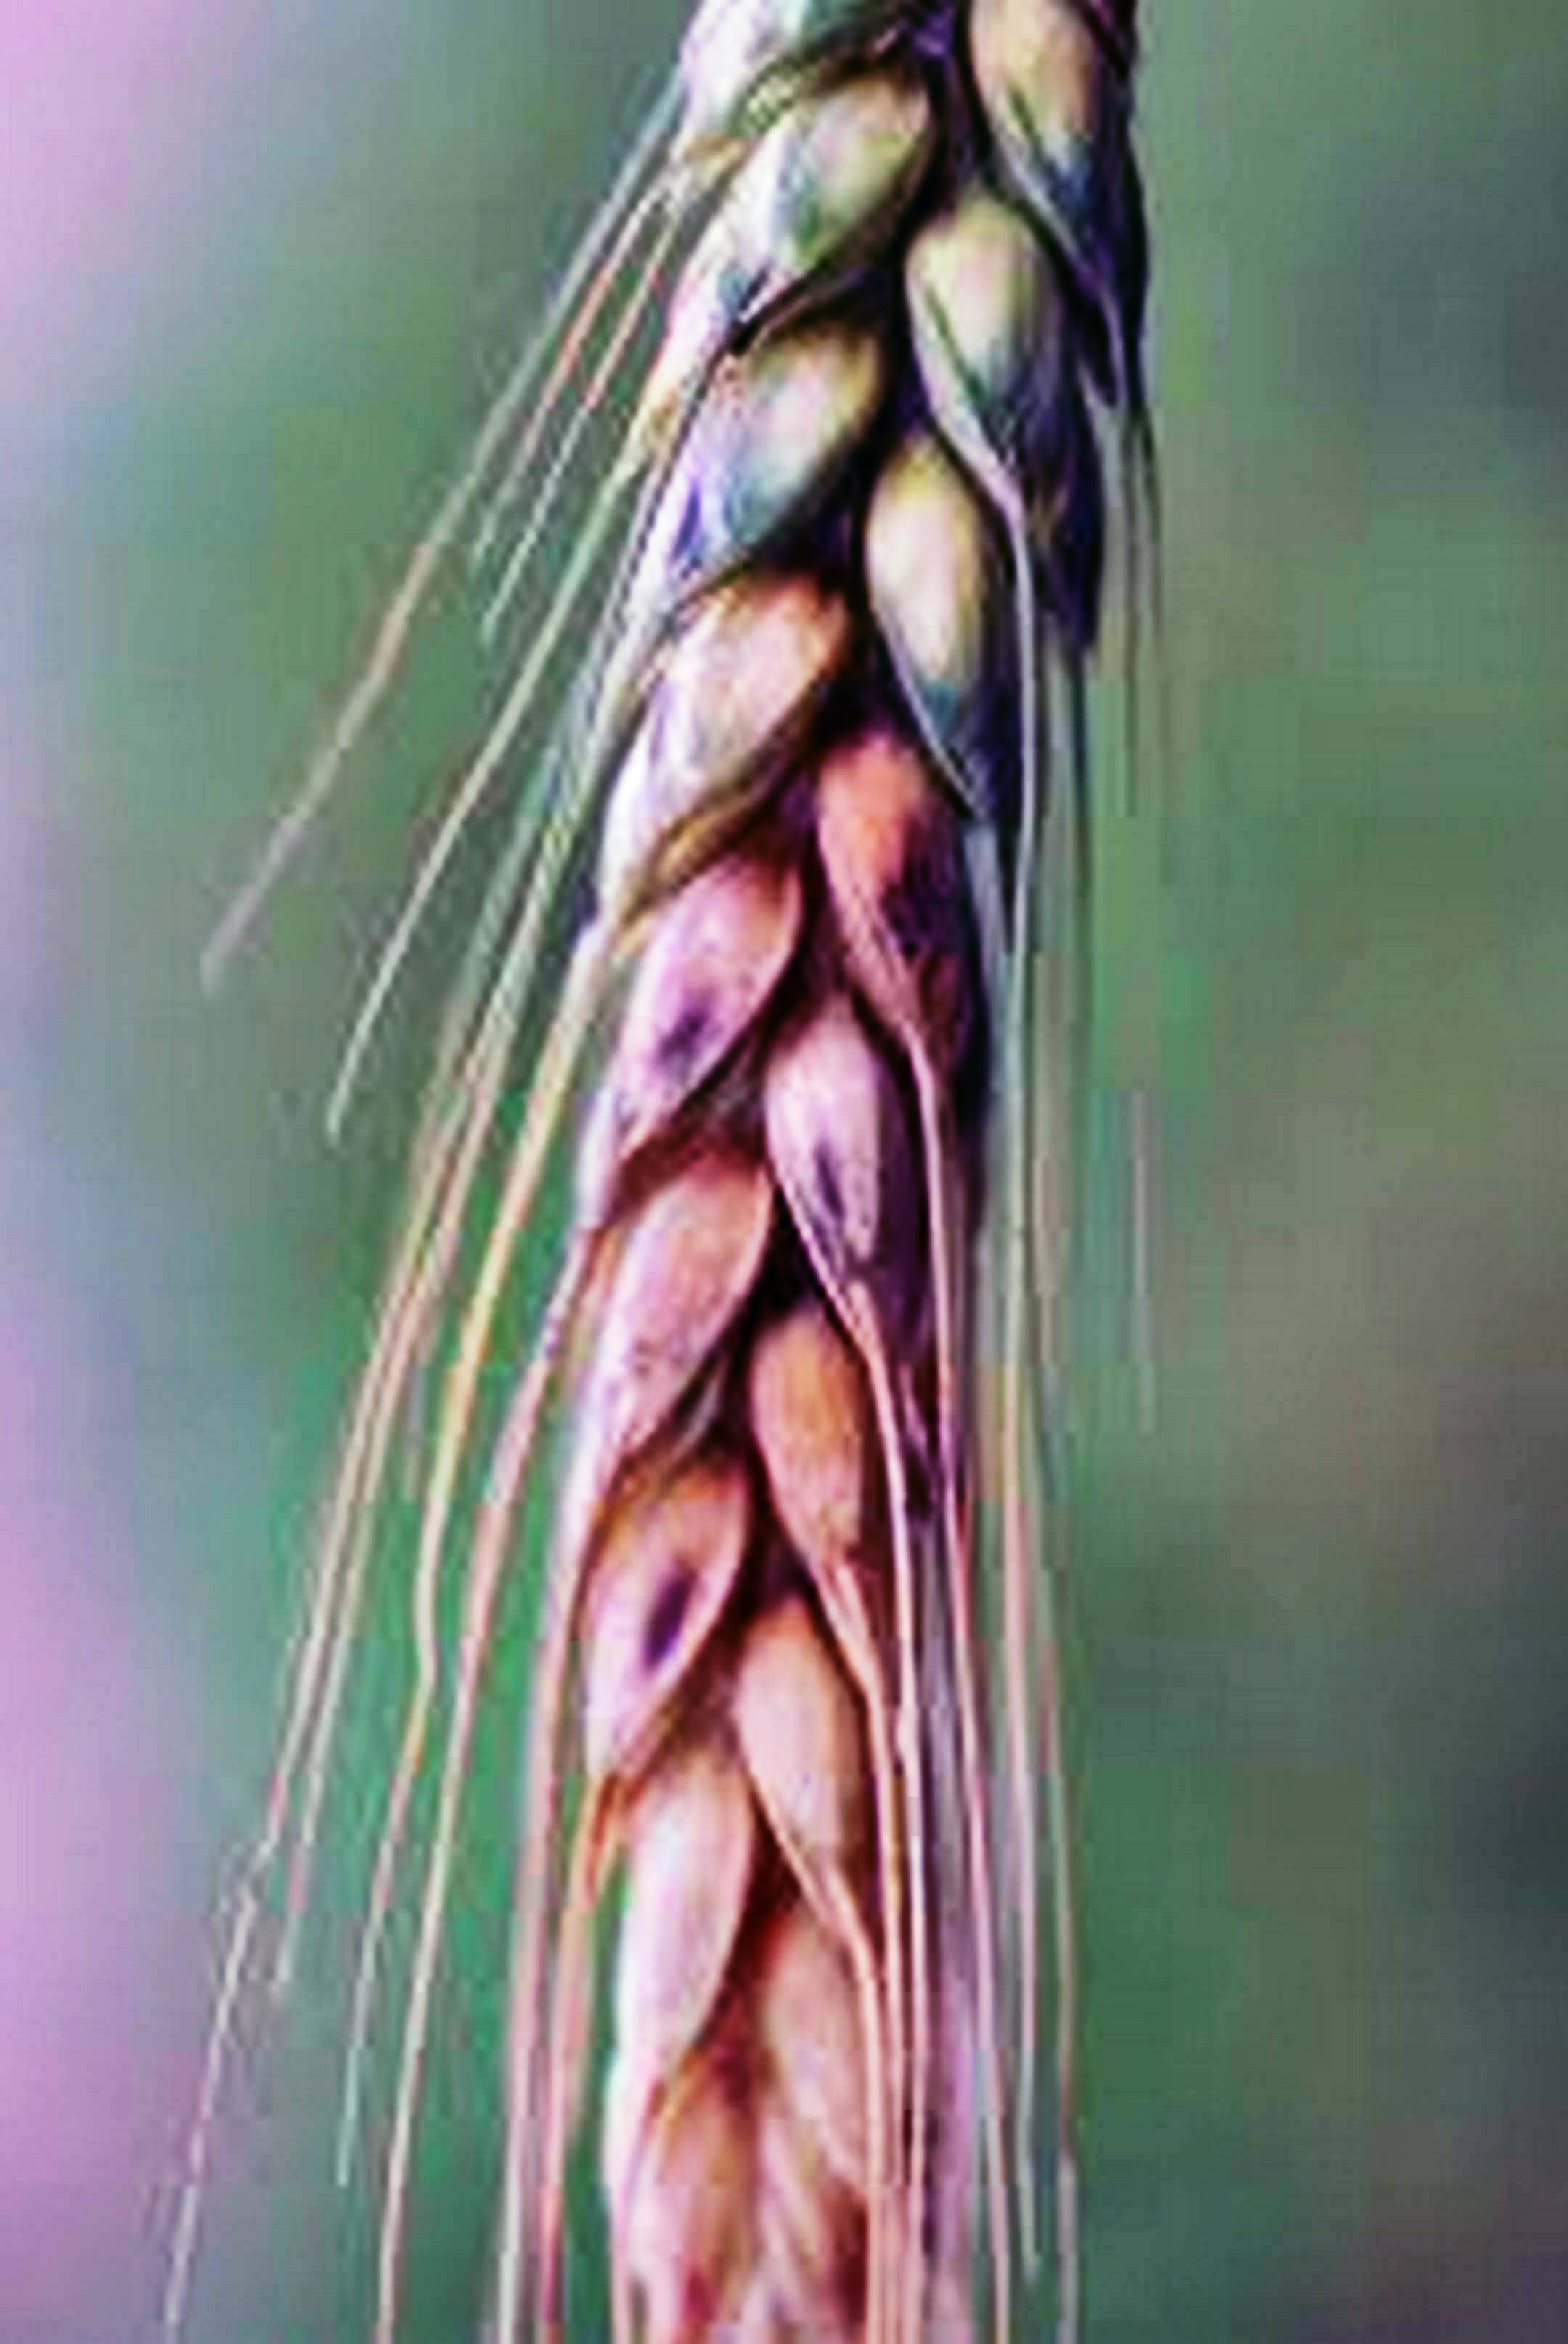Wheat scab: (359, 45, 1150, 2344)
